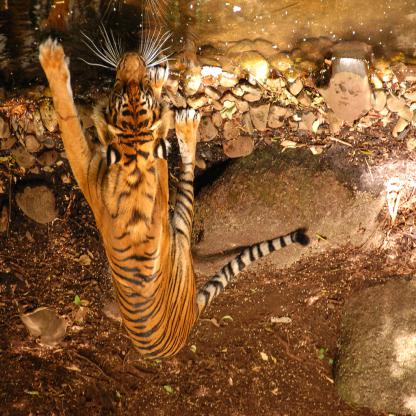tiger: (87, 38, 175, 160)
